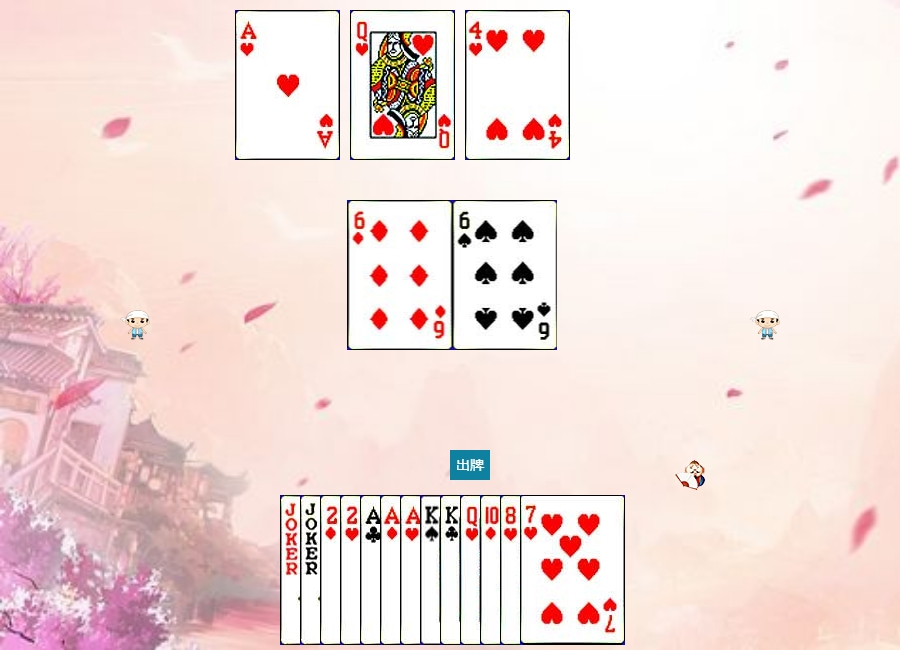10~1: (480, 495, 585, 645)
12~3: (350, 10, 455, 160), (460, 495, 565, 645)
13~2: (440, 495, 545, 645)
13~4: (420, 495, 525, 645)
14~1: (380, 495, 485, 645)
14~2: (360, 495, 465, 645)
14~3: (235, 10, 340, 160), (400, 495, 505, 645)
15~1: (320, 495, 425, 645)
15~3: (340, 495, 445, 645)
17~3: (300, 495, 405, 645)
18~4: (280, 495, 385, 645)
4~3: (465, 10, 570, 160)
6~1: (348, 200, 453, 350)
6~4: (453, 200, 558, 350)
7~3: (520, 495, 625, 645)
8~3: (500, 495, 605, 645)
